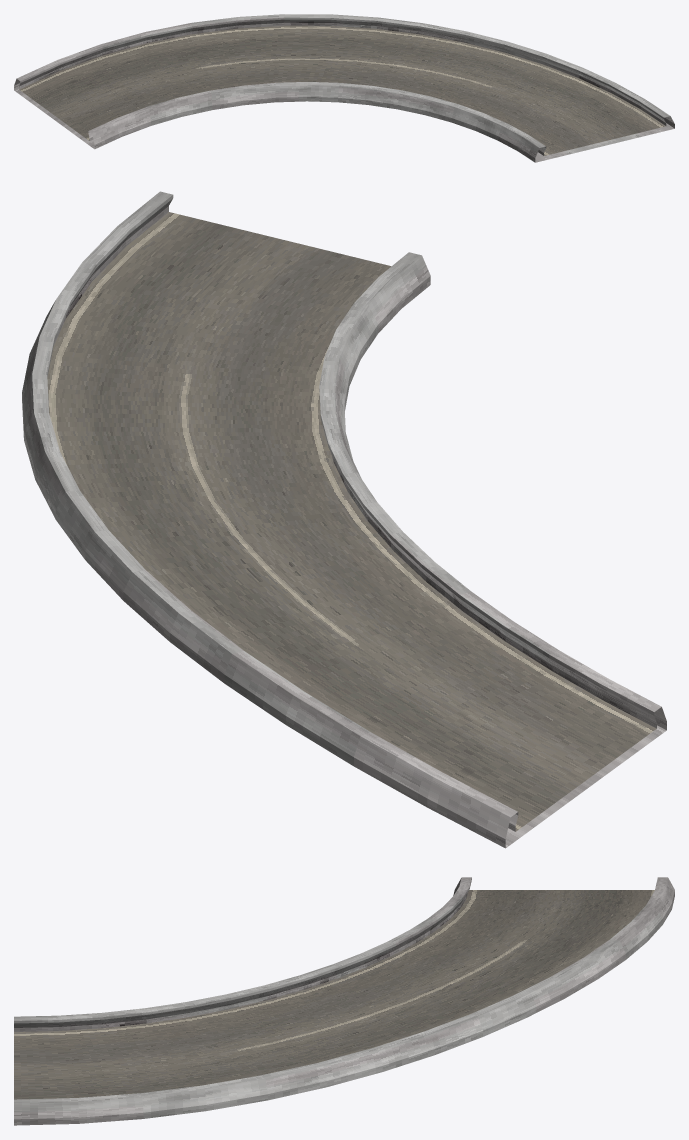
Rendered from turn-left3x3.glb.
3 renders of one model, top to bottom at view 1: azimuth 30°, elevation 25°; view 2: azimuth 150°, elevation 25°; view 3: azimuth 270°, elevation 25°, orthographic. The views are drawn at different scales.
Visible parts, largest first — view 1: road-Turn-Flat-BiSlopeDown-Down1-Left-Size3; view 2: road-Turn-Flat-BiSlopeDown-Down1-Left-Size3; view 3: road-Turn-Flat-BiSlopeDown-Down1-Left-Size3.
Boxes of the visible parts, x1,y1,x2,y2 form: road-Turn-Flat-BiSlopeDown-Down1-Left-Size3: [14, 14, 674, 162]; road-Turn-Flat-BiSlopeDown-Down1-Left-Size3: [22, 191, 666, 848]; road-Turn-Flat-BiSlopeDown-Down1-Left-Size3: [14, 877, 674, 1125].
Bounding box in the file's own units: 3 × 0.3744 × 3.
Materials: 2 (2 with a texture image).
